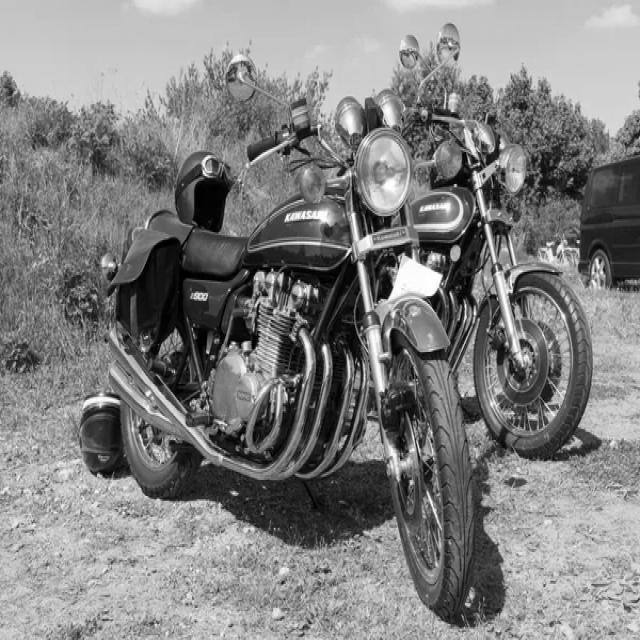Motorcycle: (100, 90, 475, 619), (412, 106, 594, 458)
